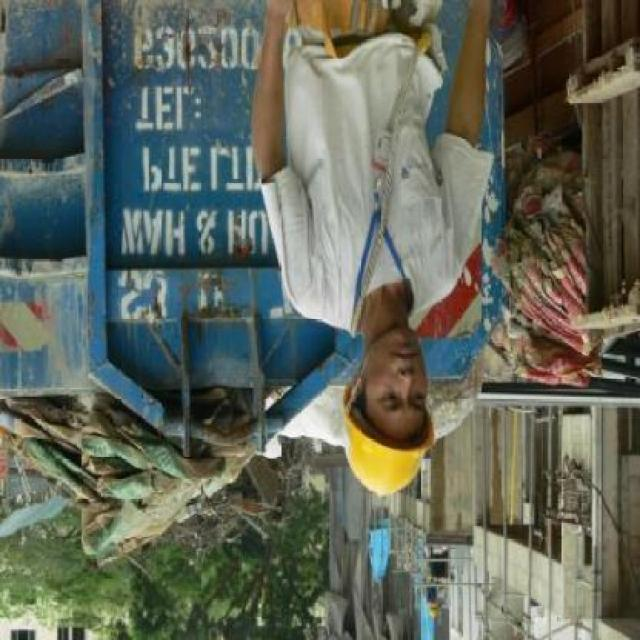safetyhelmet: (335, 324, 438, 504)
